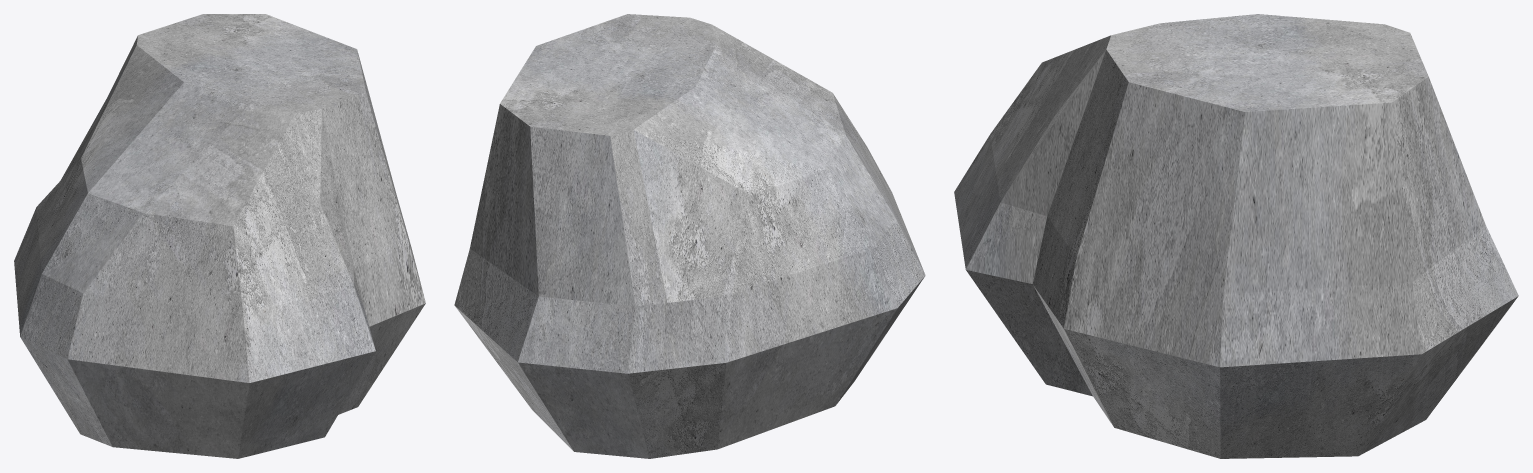
Rendered from Boulder1.fbx.
The picture shows the model from 3 angles, left to right: view 1: azimuth 30°, elevation 25°; view 2: azimuth 150°, elevation 25°; view 3: azimuth 270°, elevation 25°; orthographic projection. The views are drawn at different scales.
Visible parts, largest first — view 1: Boulder1; view 2: Boulder1; view 3: Boulder1.
Boxes of the visible parts, x1,y1,x2,y2 form: Boulder1: (14,14,425,458); Boulder1: (454,14,925,458); Boulder1: (954,14,1518,458).
Bounding box in the file's own units: 1572 × 1324 × 1694.
